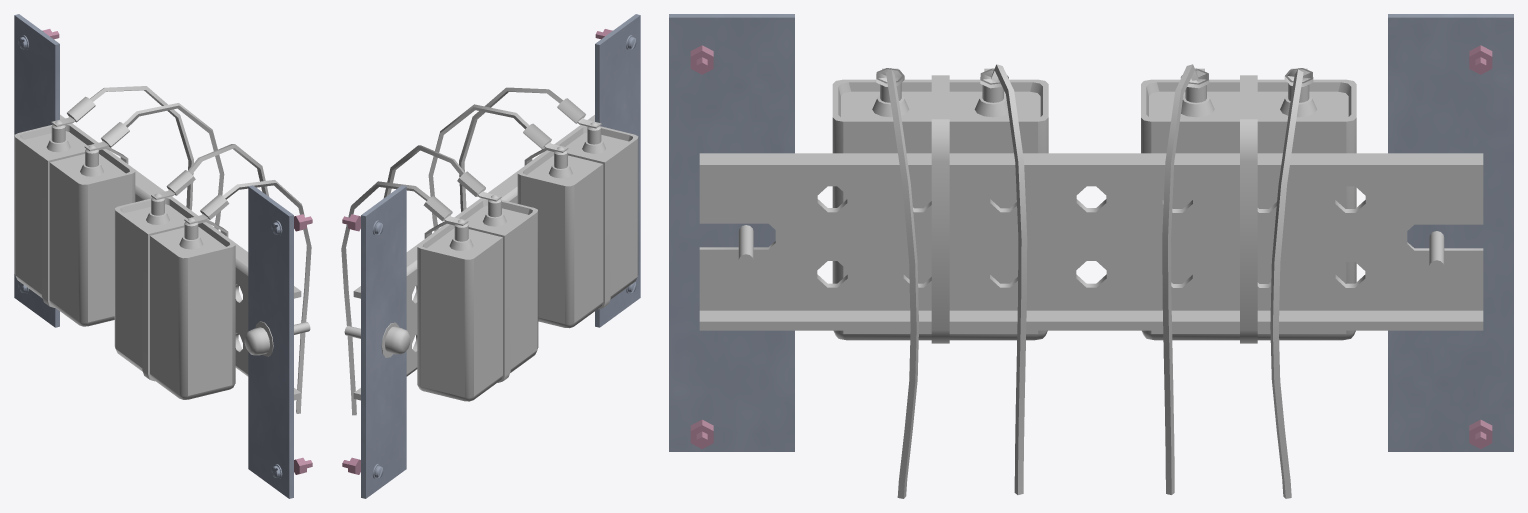
The model's file is SM_Electric_parts_2.FBX.
The picture shows the model from 3 angles, left to right: view 1: azimuth 30°, elevation 25°; view 2: azimuth 150°, elevation 25°; view 3: azimuth 270°, elevation 25°; orthographic projection. The views are drawn at different scales.
Parts seen in each view (by area): view 1: SM_Electric_parts_2; view 2: SM_Electric_parts_2; view 3: SM_Electric_parts_2.
Boxes of the visible parts, bbox=[...] form: SM_Electric_parts_2: bbox=[14, 14, 312, 498]; SM_Electric_parts_2: bbox=[341, 14, 640, 498]; SM_Electric_parts_2: bbox=[669, 14, 1513, 498].
Size of the model in its own units: 8.41 by 14.44 by 25.45.
